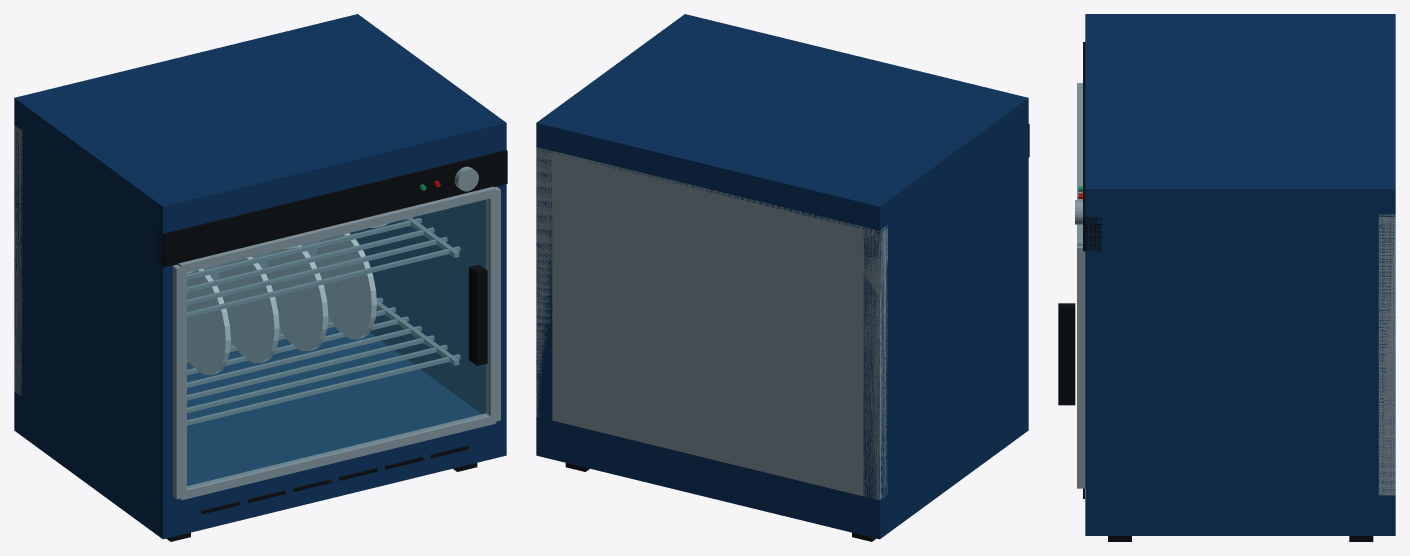
File: dish_dryer.dae
The picture shows the model from 3 angles, left to right: view 1: azimuth 30°, elevation 25°; view 2: azimuth 150°, elevation 25°; view 3: azimuth 270°, elevation 25°; orthographic projection. The views are drawn at different scales.
Parts seen in each view (by area): view 1: glass_door, roof, side (×2), base, door_frame (×4), rack_bar (×9), control_strip, plate_4, plate_2, plate_3, plate_1, back (+2 smaller); view 2: back, roof, side (×2), base; view 3: side, roof, base, back, door_frame (×2), door_handle, control_strip.
Part boxes in pixels (x1=…): glass_door: x1=187, y1=199, x2=488, y2=488; roof: x1=14, y1=14, x2=506, y2=232; side (×2): x1=14, y1=123, x2=506, y2=500; base: x1=14, y1=327, x2=506, y2=539; door_frame (×4): x1=172, y1=186, x2=500, y2=500; rack_bar (×9): x1=187, y1=218, x2=460, y2=425; control_strip: x1=155, y1=150, x2=507, y2=267; plate_4: x1=315, y1=233, x2=376, y2=339; plate_2: x1=218, y1=257, x2=279, y2=362; plate_3: x1=267, y1=245, x2=328, y2=351; plate_1: x1=187, y1=268, x2=230, y2=374; back: x1=14, y1=125, x2=349, y2=396; back: x1=536, y1=147, x2=887, y2=500; roof: x1=536, y1=14, x2=1028, y2=233; side (×2): x1=536, y1=122, x2=1028, y2=499; base: x1=536, y1=392, x2=1028, y2=539; side: x1=1085, y1=214, x2=1395, y2=495; roof: x1=1085, y1=14, x2=1395, y2=216; base: x1=1085, y1=495, x2=1395, y2=535; back: x1=1378, y1=214, x2=1395, y2=495; door_frame (×2): x1=1077, y1=83, x2=1085, y2=488; door_handle: x1=1058, y1=303, x2=1075, y2=405; control_strip: x1=1083, y1=42, x2=1101, y2=251.
Size of the model in its own units: 600 by 490 by 580.
